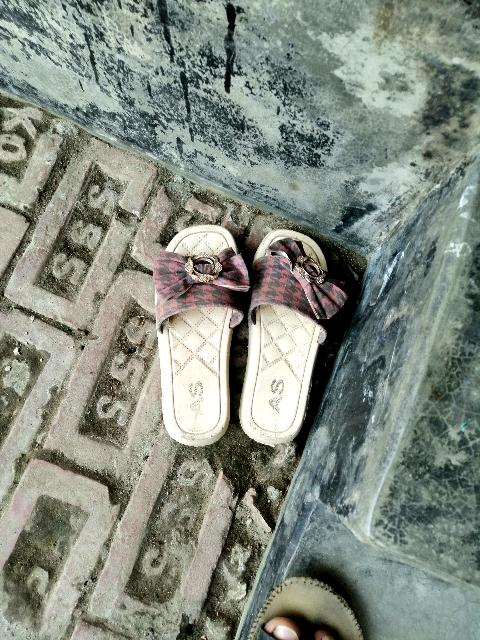sandal: (126, 222, 346, 466)
